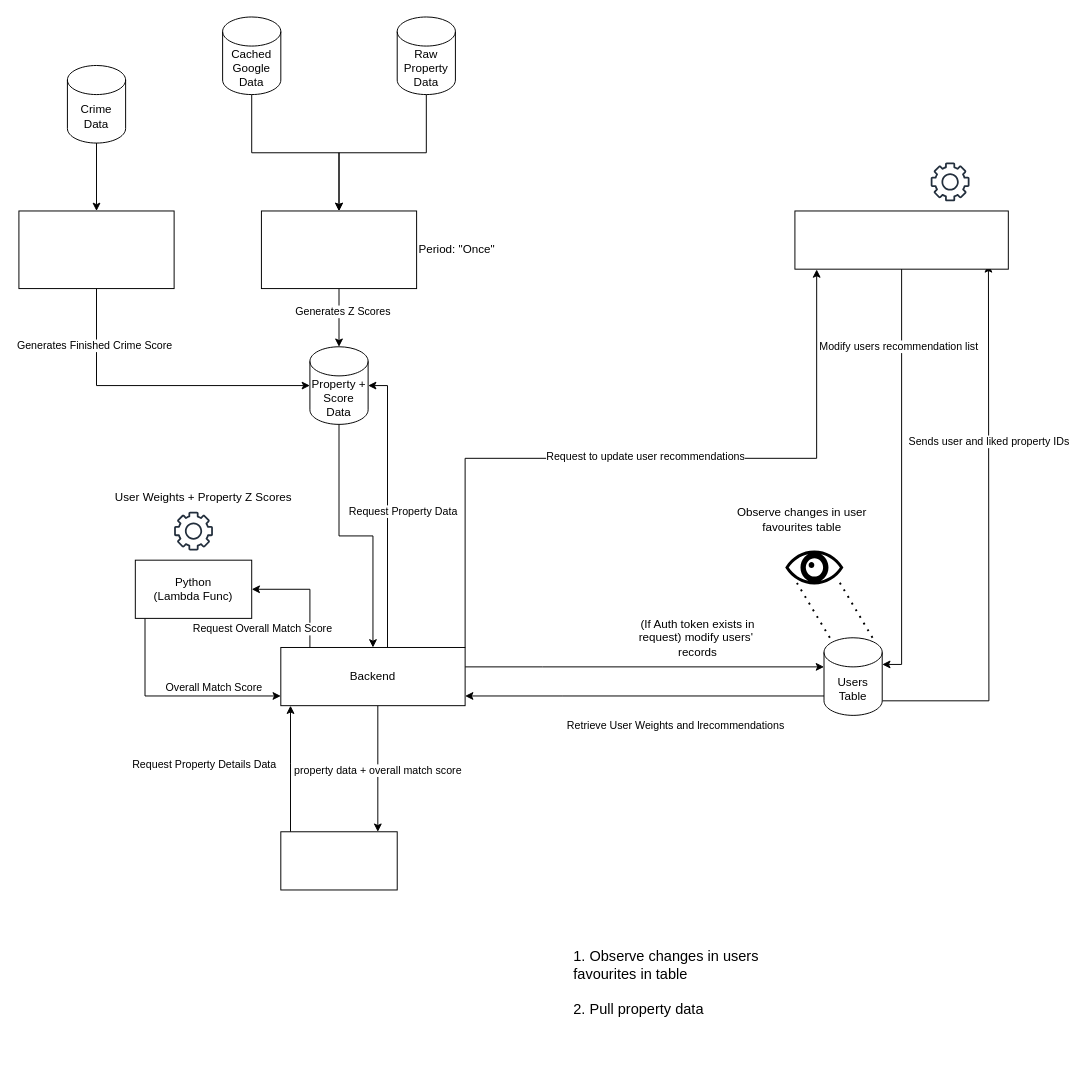
The diagram is 1086 pixels wide and 1091 high, and some of its shapes have lost their labels. Here are the shapes that lost their labels. From the top down, the centre of each, then its label:
At [96,249]: "Crime Scoring Generator".
At [338,249]: "Raw Scoring Generator".
At [901,239]: "Recommendation System Python lamda funciton".
At [338,860]: "Frontend".
